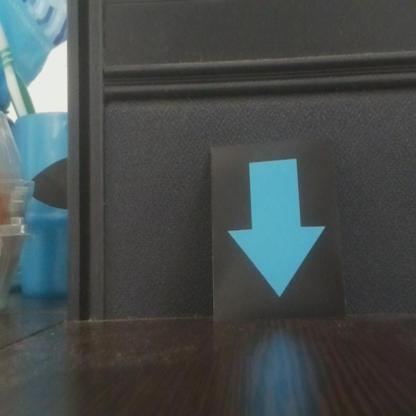down: (212, 140, 347, 319)
